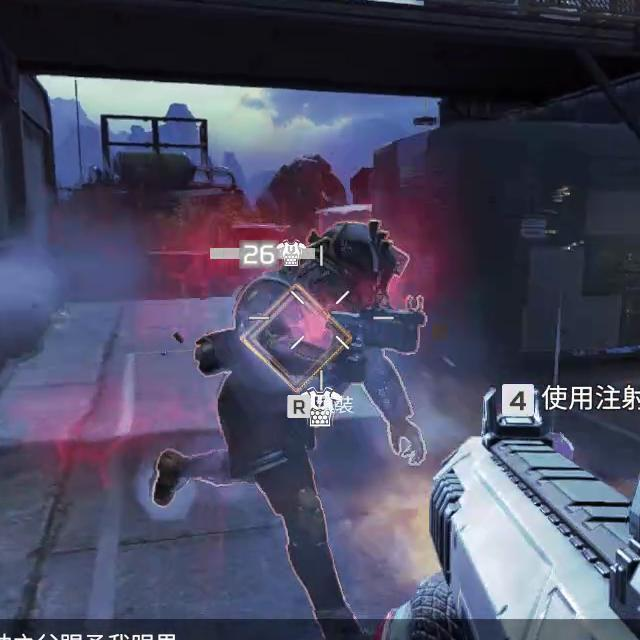avatar: (151, 221, 428, 618)
object: (240, 283, 355, 397)
